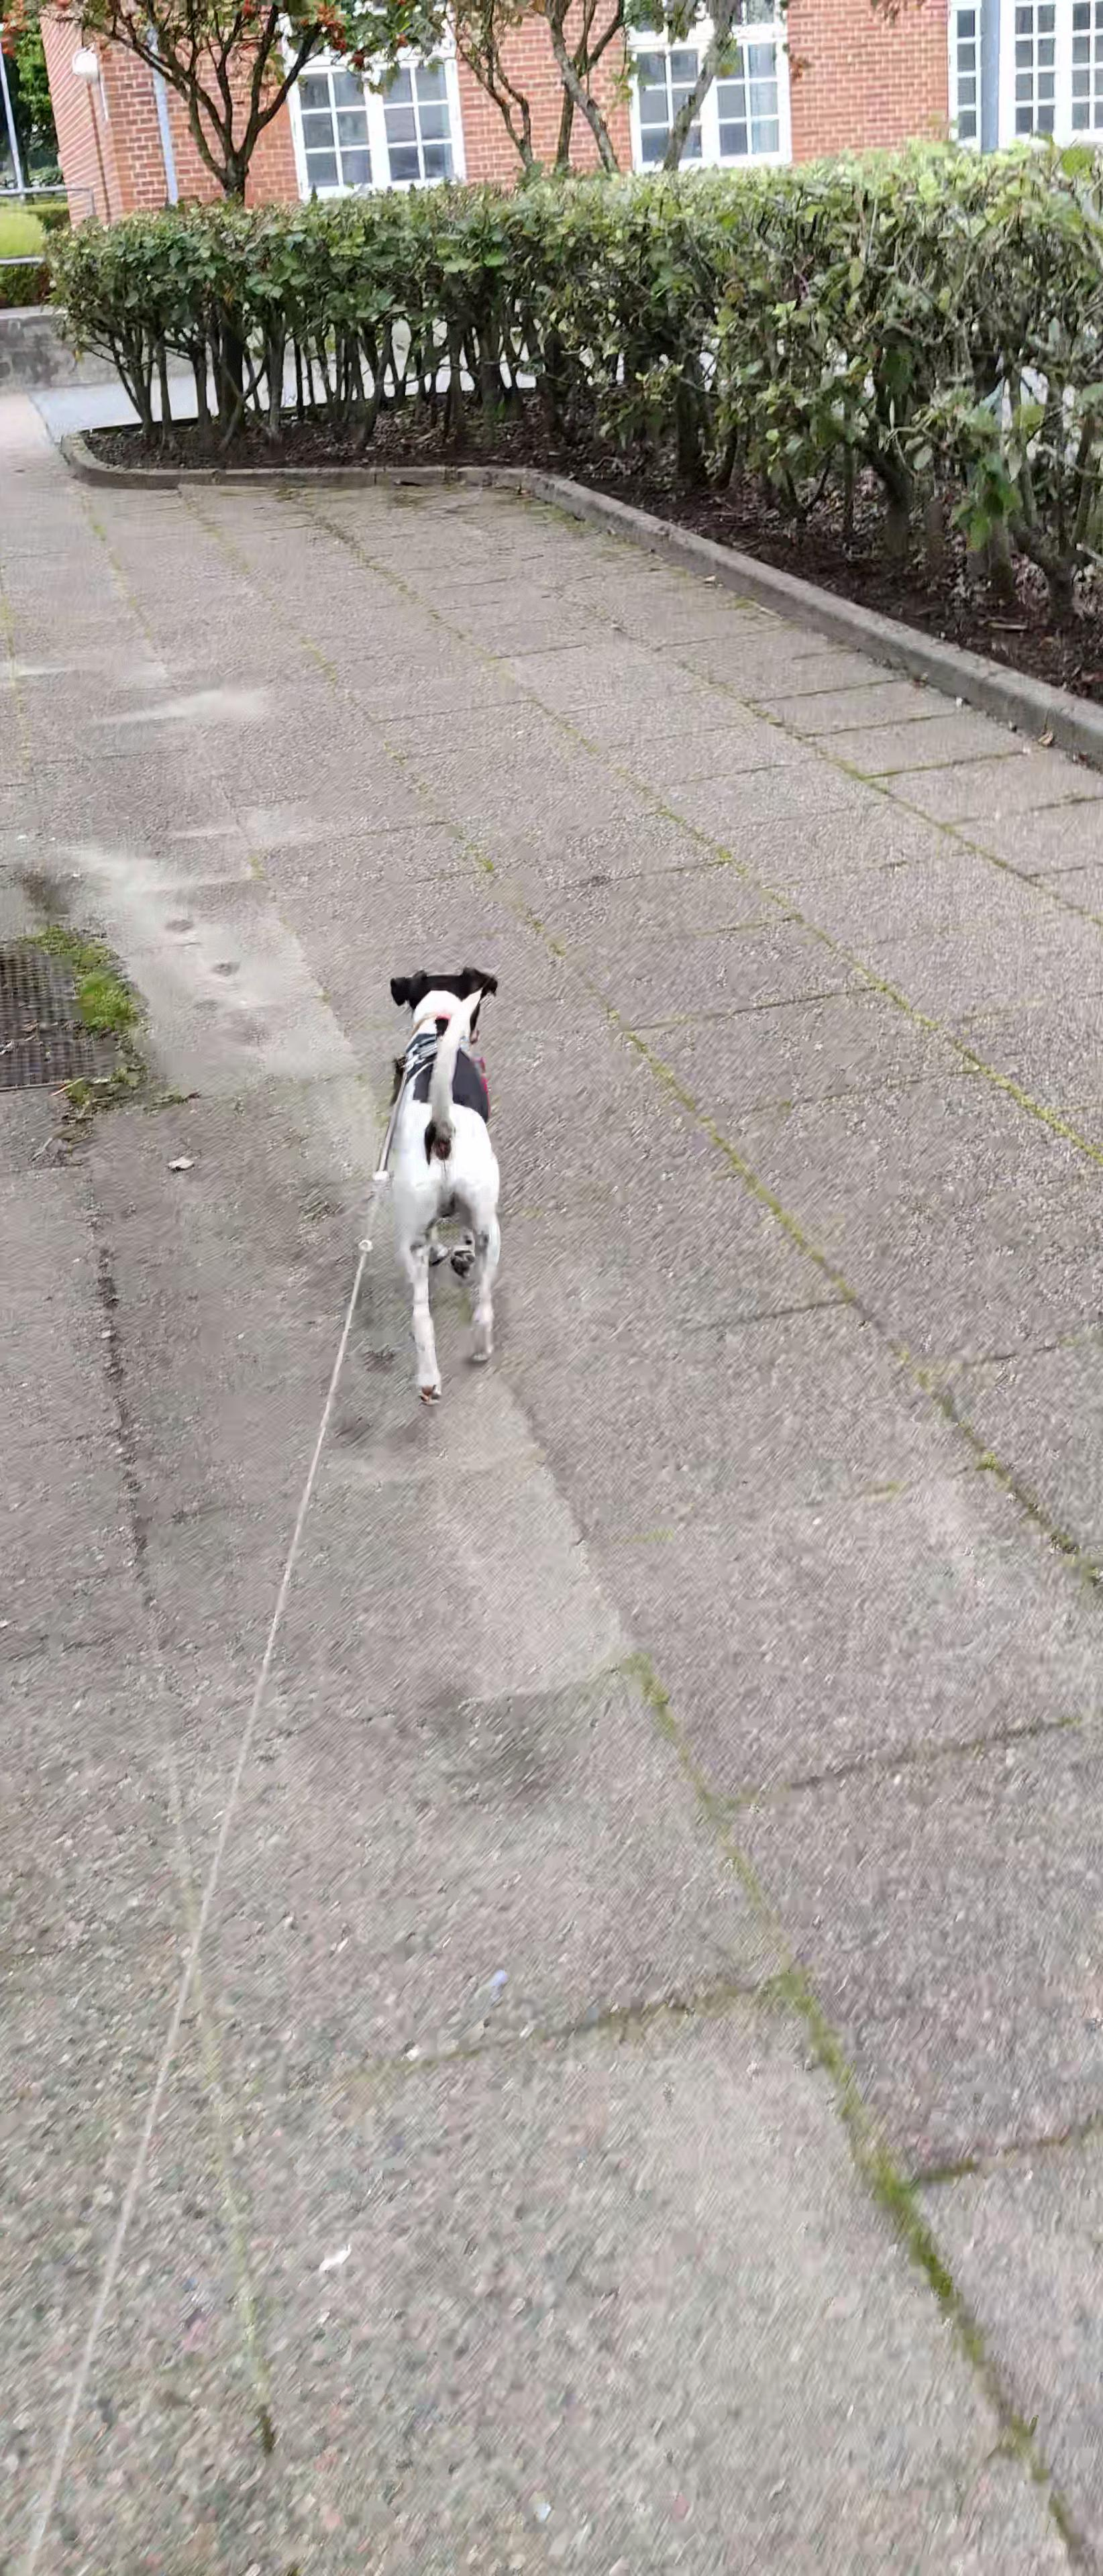Dog: (376, 959, 528, 1411)
